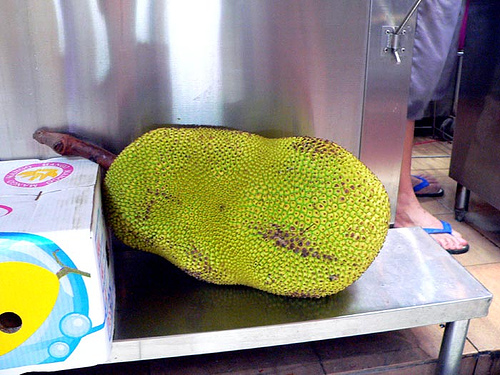jackfruit: (102, 123, 390, 298)
